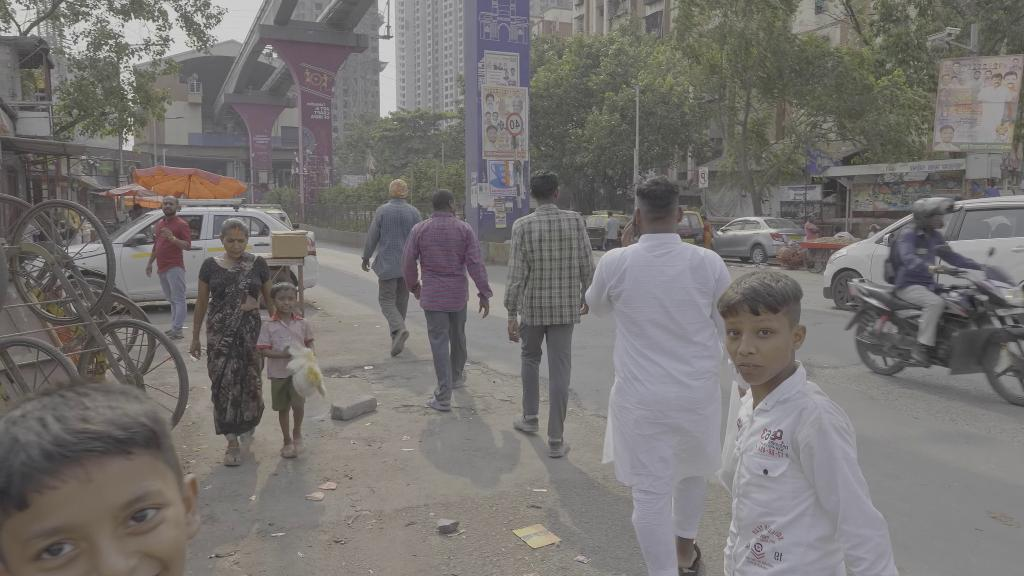garbage: (506, 517, 564, 557), (302, 478, 337, 506)
